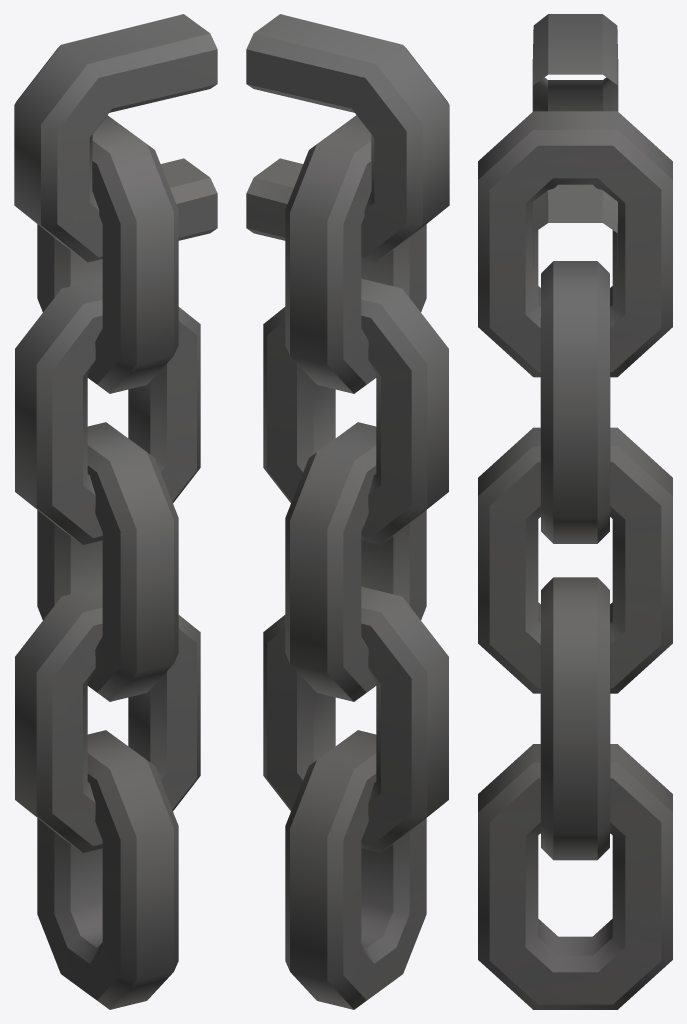
The model's file is Chain_2_1.glb.
3 views of the same model, side by side, from view 1: azimuth 30°, elevation 25°; view 2: azimuth 150°, elevation 25°; view 3: azimuth 270°, elevation 25° (orthographic). The views are drawn at different scales.
Visible parts, largest first — view 1: Chain_2_1; view 2: Chain_2_1; view 3: Chain_2_1.
Part boxes in pixels (x1,y1,x2,y2): Chain_2_1: (14, 14, 217, 1009); Chain_2_1: (246, 14, 449, 1009); Chain_2_1: (478, 14, 672, 1009).
Size of the model in its own units: 0.1171 by 0.6174 by 0.1122.
Materials: 1 (1 with a texture image).
